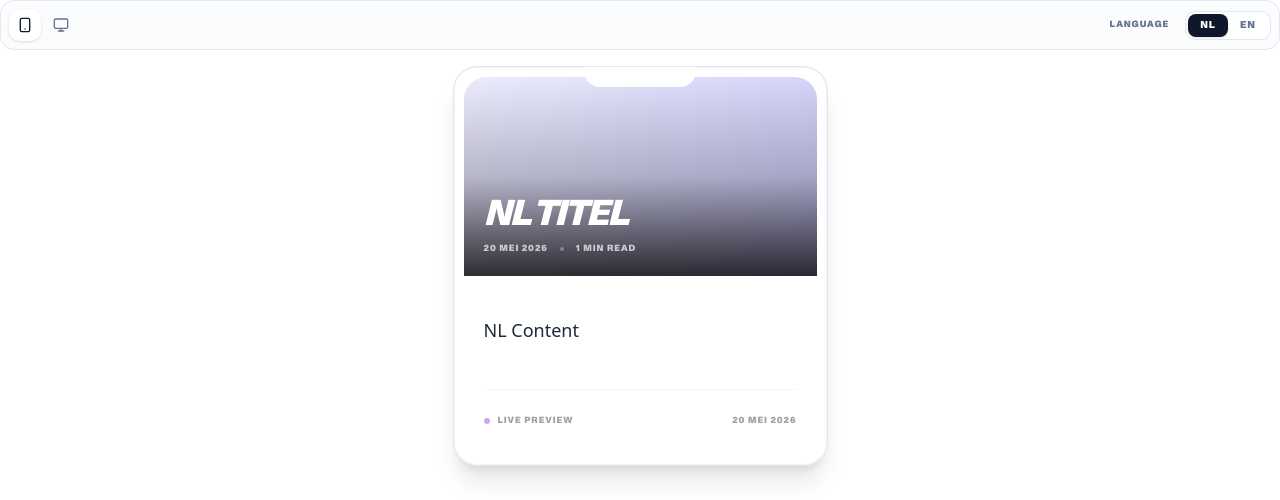
Test: AdminBlogsPreview › switches language when language buttons are clicked
The image size is (1280, 500).
What coordinates should you click on to do the following:
click the button "en"
I would click on:
 (1248, 25)
Its box is [1228,14,1268,36].
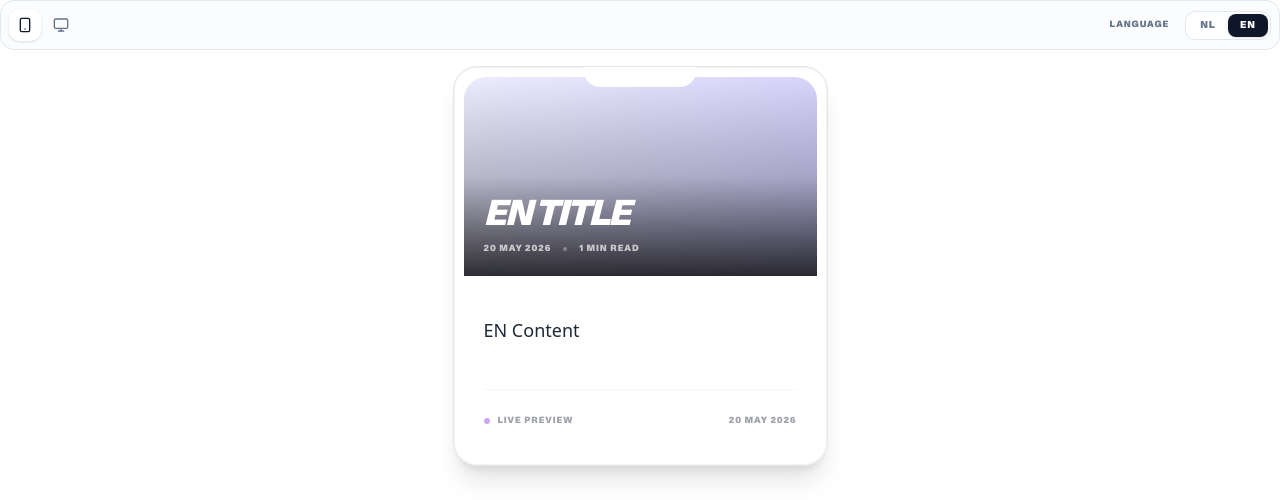
Now the text "EN Title" is shown, box [484,198,629,230]
Now the text "EN Content" is shown, box [484,318,580,342]
